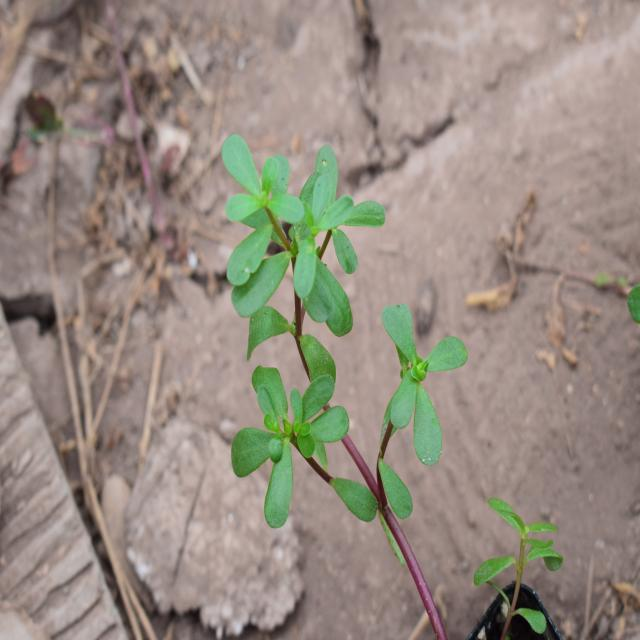purslane: (218, 108, 457, 571)
